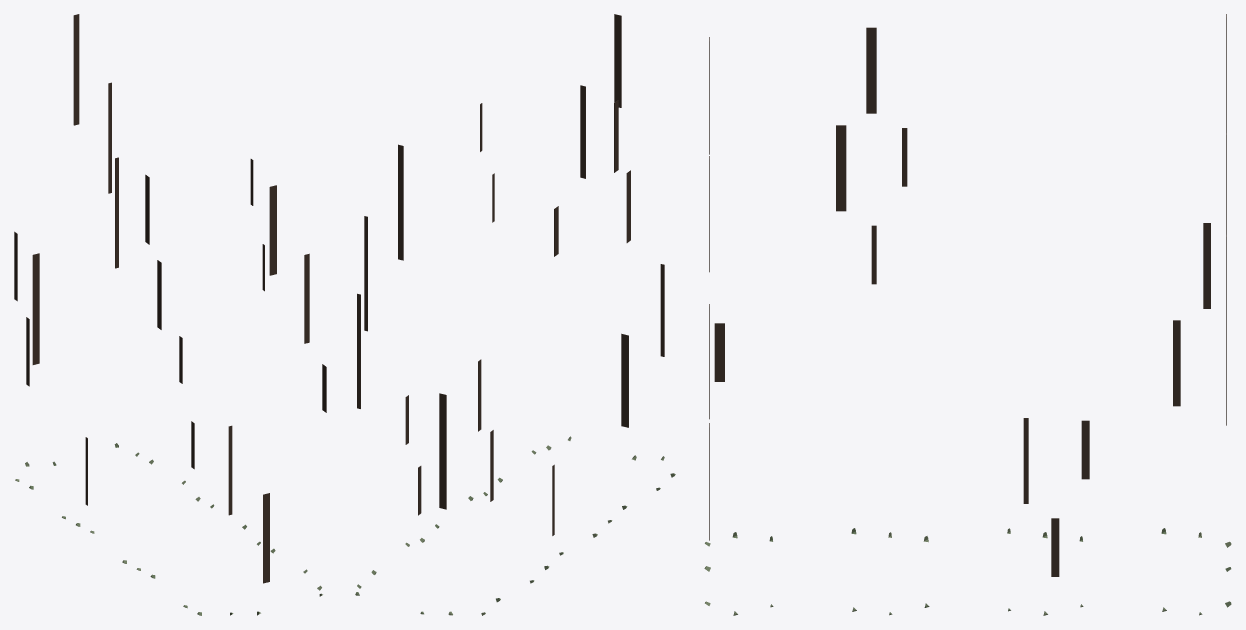
File: surge_pylon_28_detail2.glb
The picture shows the model from 3 angles, left to right: view 1: azimuth 30°, elevation 25°; view 2: azimuth 150°, elevation 25°; view 3: azimuth 270°, elevation 25°; orthographic projection. The views are drawn at different scales.
Parts seen in each view (by area): view 1: surge_pylon_28_detail2_mesh; view 2: surge_pylon_28_detail2_mesh; view 3: surge_pylon_28_detail2_mesh.
Boxes of the visible parts, x1,y1,x2,y2 form: surge_pylon_28_detail2_mesh: (14, 14, 326, 615); surge_pylon_28_detail2_mesh: (355, 14, 675, 615); surge_pylon_28_detail2_mesh: (704, 14, 1231, 615).
Bounding box in the file's own units: 4.24 × 14.59 × 12.24.
